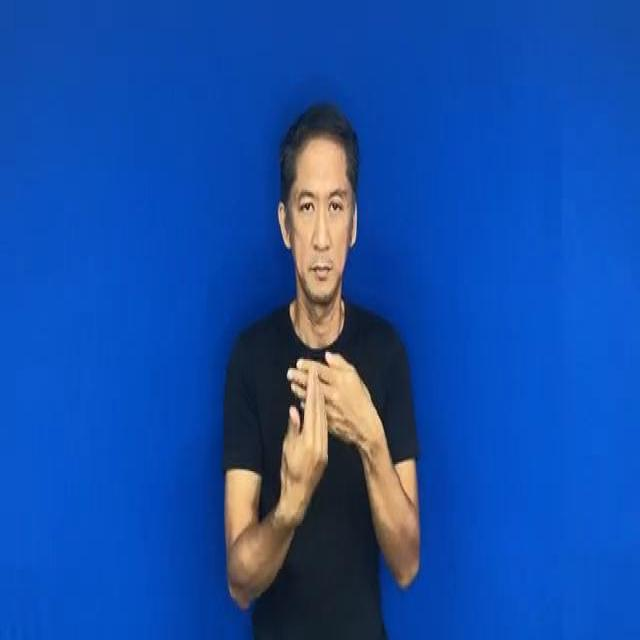bread: (263, 335, 389, 520)
